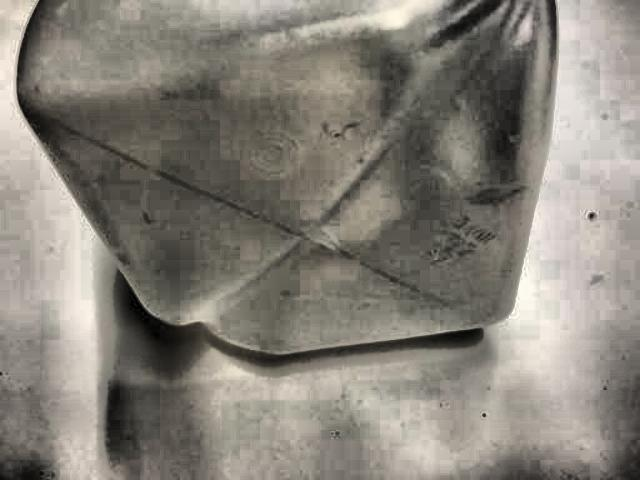Plastic: (0, 0, 564, 373)
